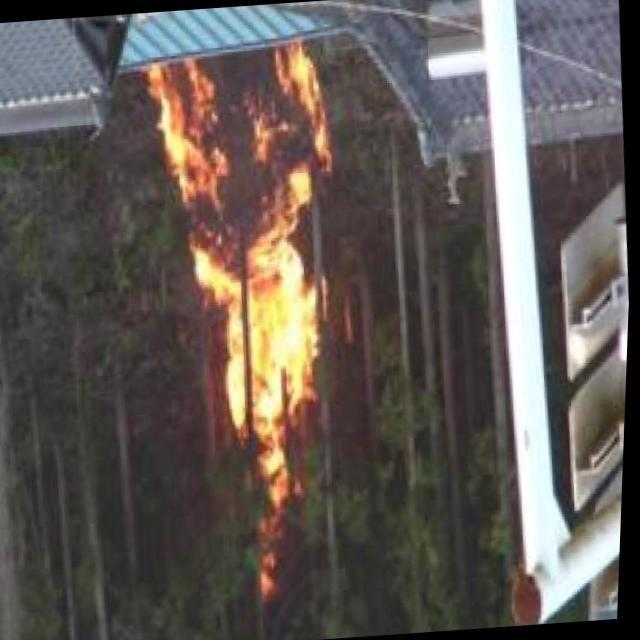fire: (142, 42, 358, 438)
